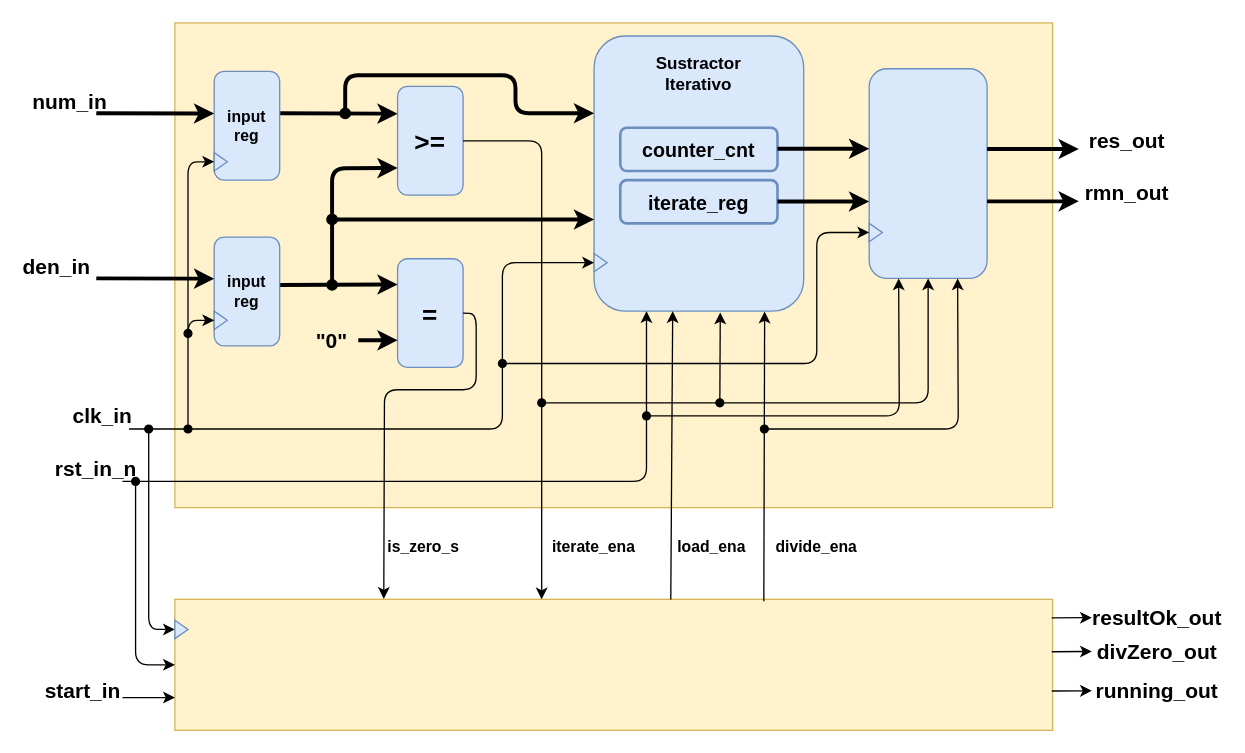
The diagram is 1245 pixels wide and 753 high, and some of its shapes have lost their labels. The shapes that lost their labels are listed below. From the top down, each one's centre as x and y in pixels, then its label:
At point 927,172: "Output Reg".
At point 613,664: "FSM".
